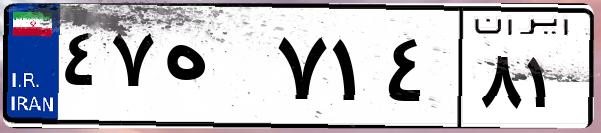1: (330, 28, 385, 110), (525, 38, 570, 115)
4: (385, 28, 445, 110), (57, 26, 110, 100)
7: (270, 28, 330, 110), (110, 28, 158, 98)
8: (475, 38, 525, 113)
ه: (158, 20, 270, 120)
